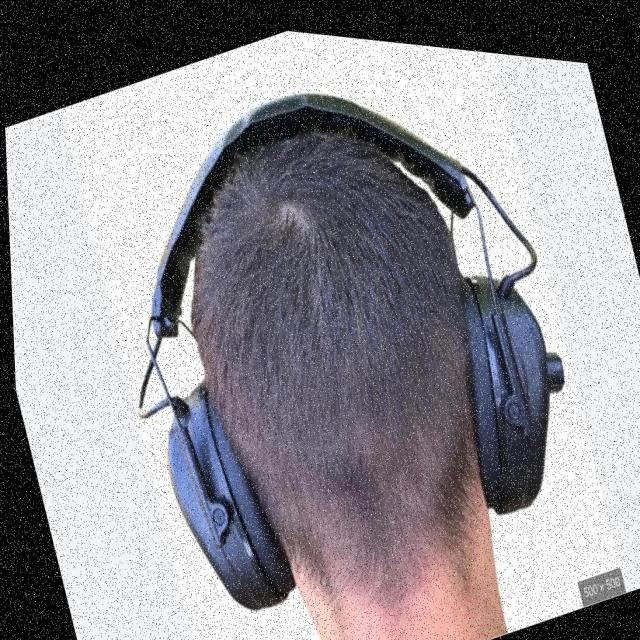Earmuffs: (169, 386, 295, 608), (464, 278, 564, 513)
No Hardhat: (192, 133, 478, 562)
